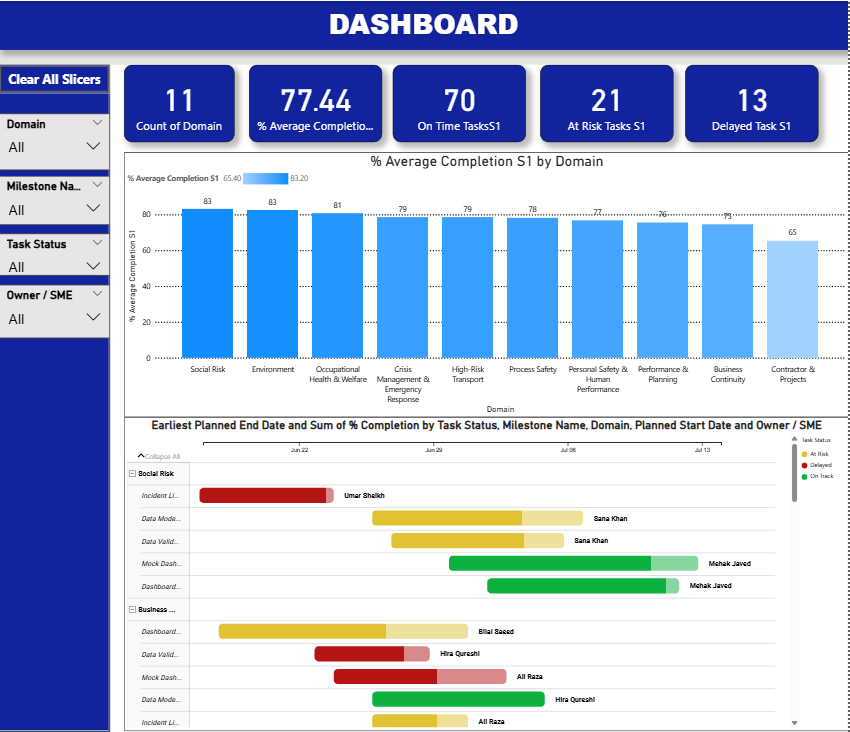

What the dashboard file says about the page in this screenshot:
{"tool":"powerbi","page":{"name":"Stream 1 Tracker","canvas":[1500,1300],"ordinal":0},"visuals":[{"type":"shape","box":[0,0,196,1290],"z":0},{"type":"slicer","fields":{"Values":["Stream1.Domain"]},"box":[0,198,196,100],"z":1000},{"type":"slicer","fields":{"Values":["Stream1.Milestone Name"]},"box":[0,310,196,86],"z":2000},{"type":"slicer","fields":{"Values":["Stream1.Task Status"]},"box":[0,410,196,74],"z":3000},{"type":"slicer","fields":{"Values":["Stream1.Owner / SME"]},"box":[0,502,196,94],"z":4000},{"type":"Gantt1448688115699","fields":{"Legend":["Stream1.Task Status"],"Task":["Stream1.Milestone Name"],"Parent":["Stream1.Domain"],"StartDate":["Stream1.Planned Start Date"],"EndDate":["Min(Stream1.Planned End Date)"],"Completion":["Sum(Stream1.% Completion)"],"Resource":["Stream1.Owner / SME"]},"box":[220,736,1280,554],"z":5000},{"type":"card","fields":{"Values":["Count(Stream1.Domain)"]},"box":[220,111.7,195,136.7],"z":6000},{"type":"card","fields":{"Values":["Stream1.% Overall Completion S1"]},"box":[441.7,111.7,235,136.7],"z":7000},{"type":"card","fields":{"Values":["Stream1.On Time TasksS1"]},"box":[695,111.7,235,136.7],"z":8000},{"type":"card","fields":{"Values":["Stream1.At Risk Tasks S1"]},"box":[955,111.7,235,136.7],"z":9000},{"type":"card","fields":{"Values":["Stream1.Delayed Task S1"]},"box":[1211.7,111.7,235,136.7],"z":10000},{"type":"shape","box":[0,0,1500,112],"z":11000},{"type":"actionButton","box":[0,112,196,50],"z":12000},{"type":"textbox","box":[0,0,1500,86],"z":13000},{"type":"columnChart","fields":{"Category":["Stream 1.Domain"],"Y":["Stream 1.% Average Completion S1"]},"box":[220,268,1280,468],"z":14000}]}

Visuals, with their boxes in screenshot pixels (x1, y1, x2, y2), scaled from the page's 1500x1300 canvas onto the 850x732 screenshot:
shape: x1=0 y1=0 x2=111 y2=726
slicer - Stream1.Domain: x1=0 y1=111 x2=111 y2=168
slicer - Stream1.Milestone Name: x1=0 y1=175 x2=111 y2=223
slicer - Stream1.Task Status: x1=0 y1=231 x2=111 y2=273
slicer - Stream1.Owner / SME: x1=0 y1=283 x2=111 y2=336
Gantt1448688115699 - Stream1.Task Status x Stream1.Milestone Name: x1=125 y1=414 x2=849 y2=726
card - Count(Stream1.Domain): x1=125 y1=63 x2=235 y2=140
card - Stream1.% Overall Completion S1: x1=250 y1=63 x2=383 y2=140
card - Stream1.On Time TasksS1: x1=394 y1=63 x2=527 y2=140
card - Stream1.At Risk Tasks S1: x1=541 y1=63 x2=674 y2=140
card - Stream1.Delayed Task S1: x1=687 y1=63 x2=820 y2=140
shape: x1=0 y1=0 x2=849 y2=63
actionButton: x1=0 y1=63 x2=111 y2=91
textbox: x1=0 y1=0 x2=849 y2=48
columnChart - Stream 1.Domain x Stream 1.% Average Completion S1: x1=125 y1=151 x2=849 y2=414
